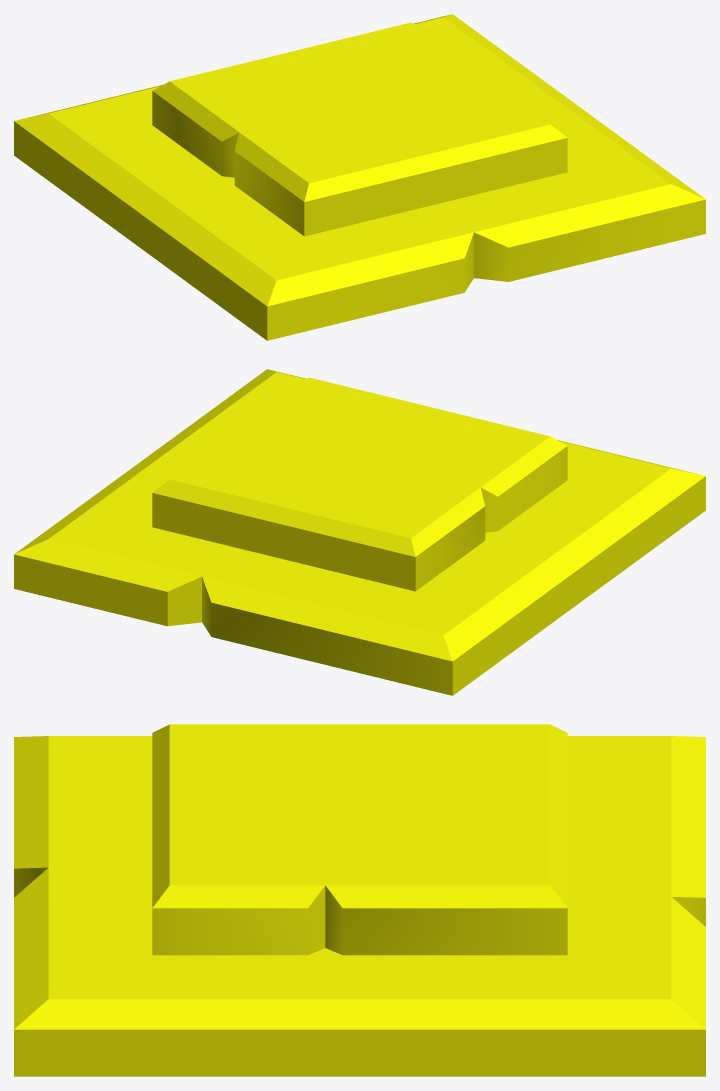
File: kaykit-plaque.glb
3 renders of one model, top to bottom at view 1: azimuth 30°, elevation 25°; view 2: azimuth 150°, elevation 25°; view 3: azimuth 270°, elevation 25°, orthographic. The views are drawn at different scales.
Visible parts, largest first — view 1: plaque; view 2: plaque; view 3: plaque.
Boxes of the visible parts, x1=… form: plaque: x1=14, y1=14, x2=705, y2=340; plaque: x1=14, y1=369, x2=705, y2=695; plaque: x1=14, y1=724, x2=705, y2=1076.
Bounding box in the file's own units: 2 × 0.3999 × 2.
